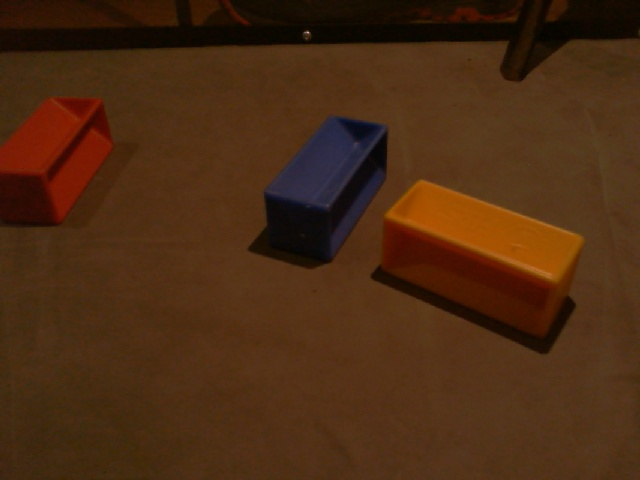BlueSample: (261, 112, 390, 265)
RedSample: (1, 94, 117, 226)
YellowSample: (381, 176, 588, 342)
